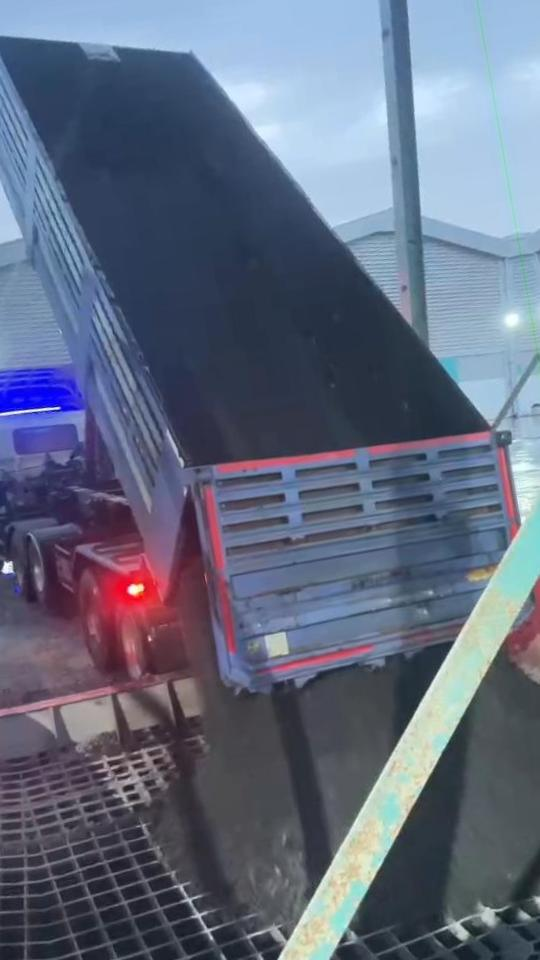gravel: (173, 557, 449, 927), (355, 656, 540, 932)
